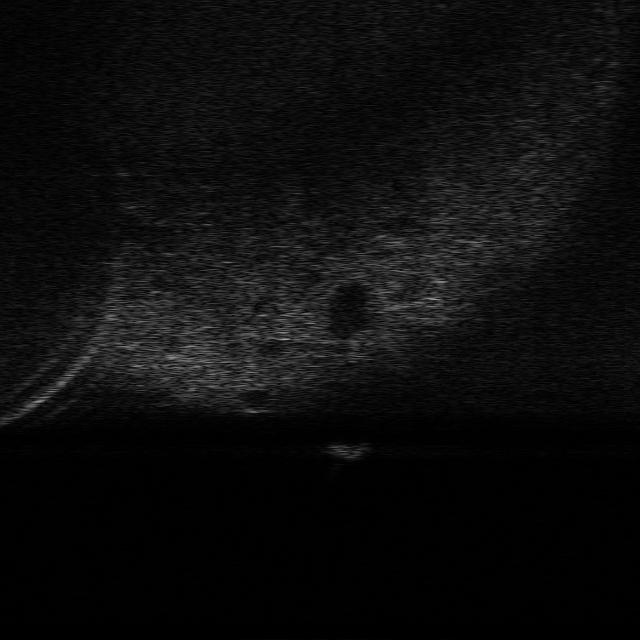cube: (328, 442, 374, 463)
